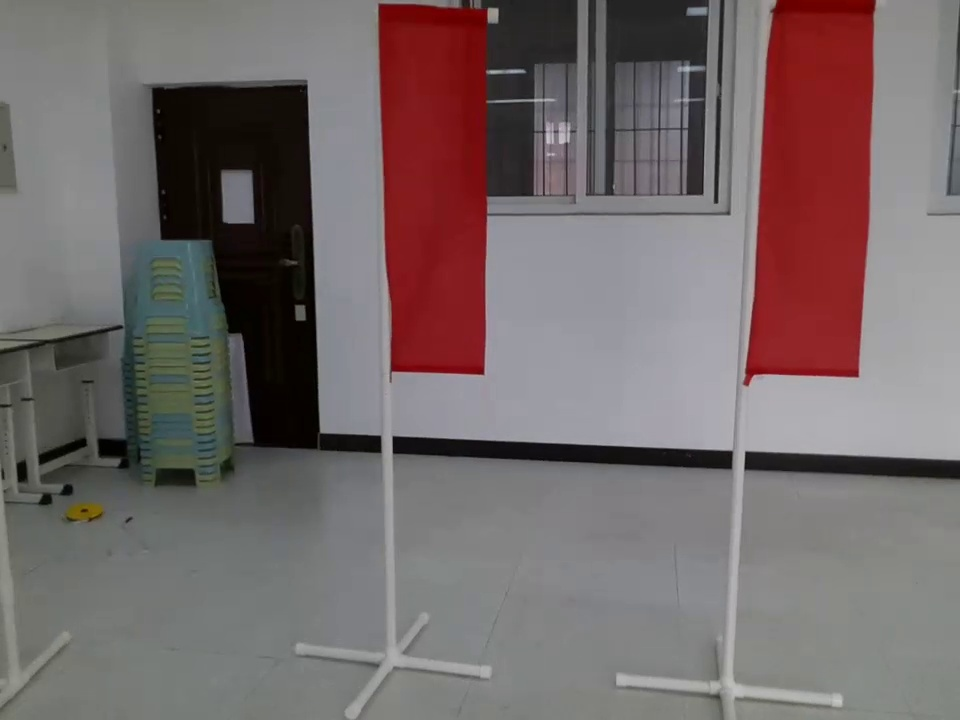qi: (733, 1, 879, 388), (363, 1, 490, 386)
